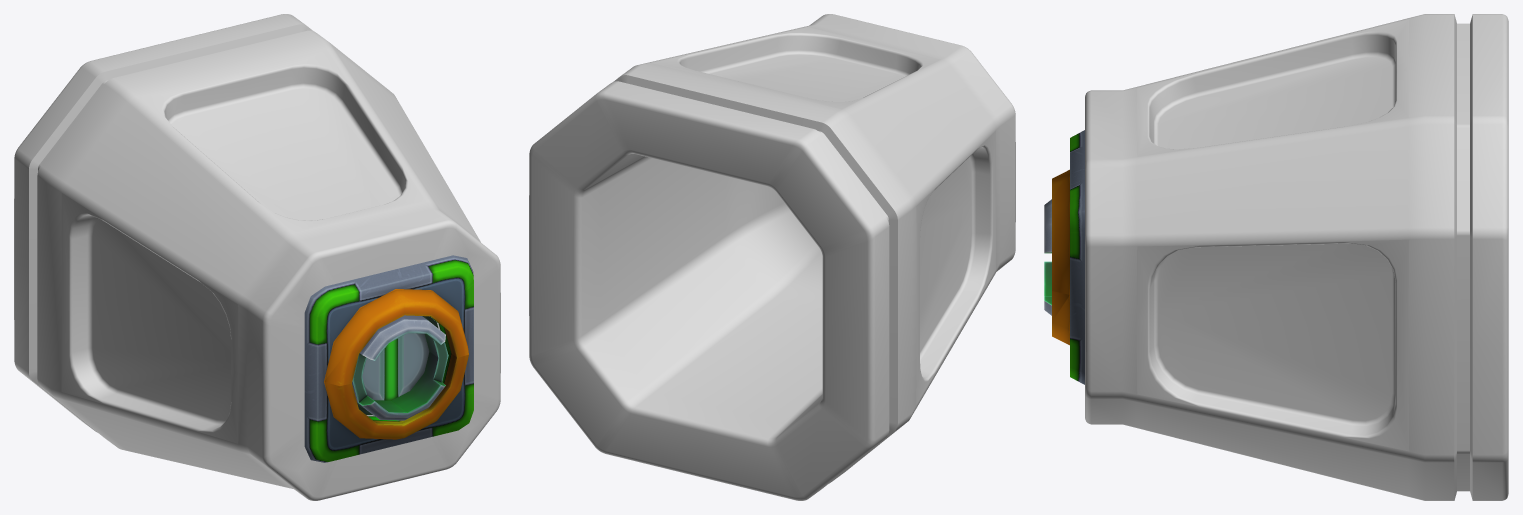
Rendered from fant_trashcan.fbx.
3 views of the same model, side by side, from view 1: azimuth 30°, elevation 25°; view 2: azimuth 150°, elevation 25°; view 3: azimuth 270°, elevation 25° (orthographic). The views are drawn at different scales.
Visible parts, largest first — view 1: fant_trashcan; view 2: fant_trashcan; view 3: fant_trashcan.
Part boxes in pixels (x1,y1,x2,y2): fant_trashcan: (14,14,500,500); fant_trashcan: (529,14,1015,500); fant_trashcan: (1044,14,1508,500).
Bounding box in the file's own units: 3 × 3 × 3.29.
